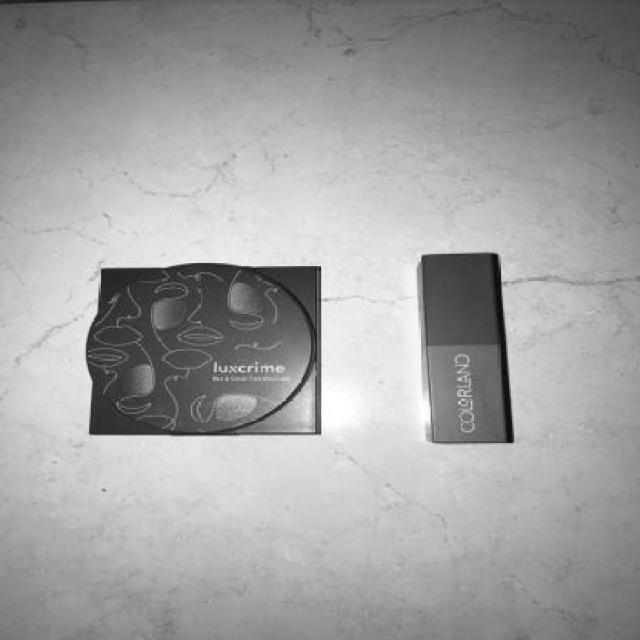lipstick: (375, 226, 560, 482)
